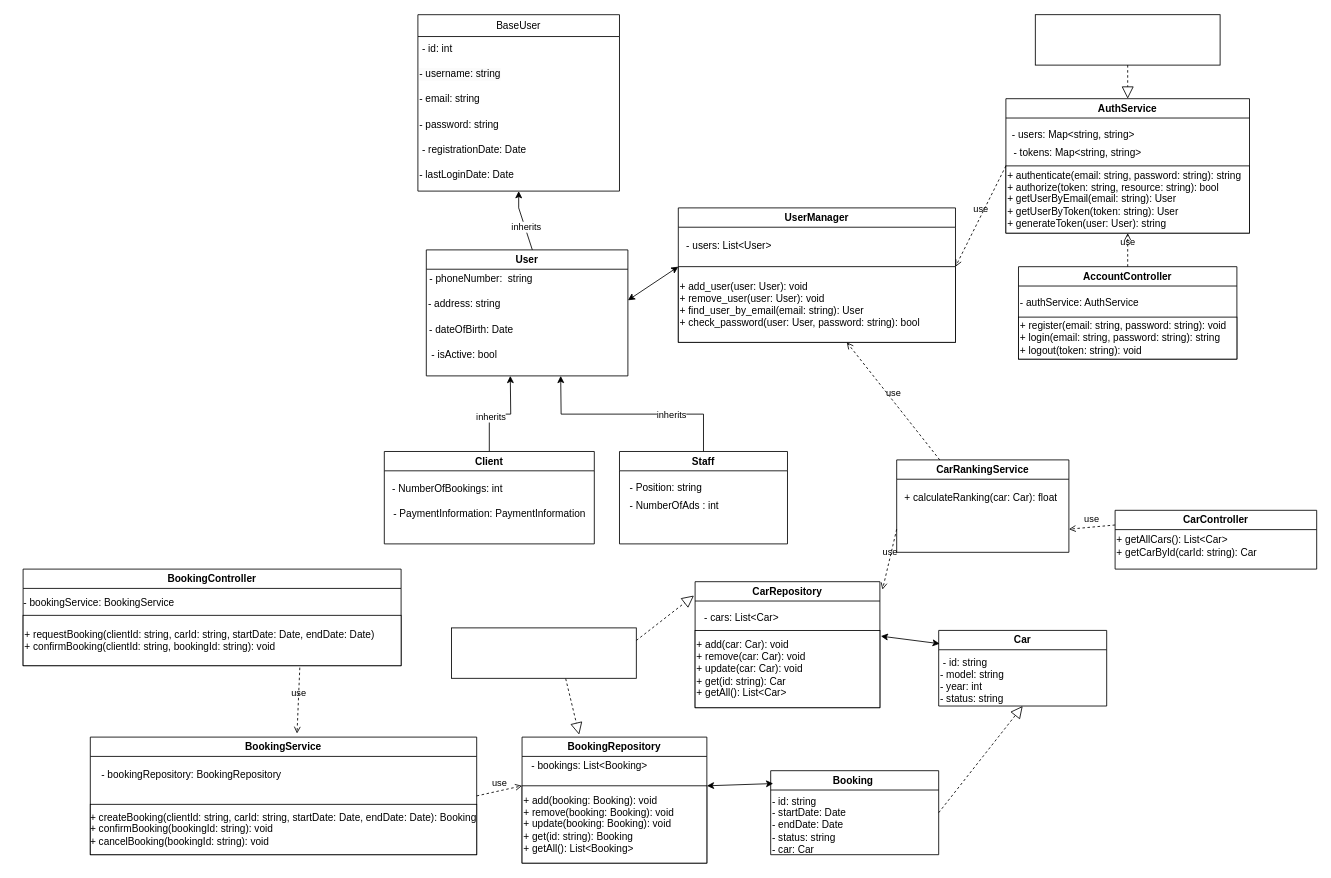
The diagram is 1331 pixels wide and 878 high, and some of its shapes have lost their labels. Here are the shapes that lost their labels. From the top down, the centre of each, then its label:
(x=1127, y=39): "interface" IBaseAuthService
(x=543, y=652): "interface" IBaseRepository
